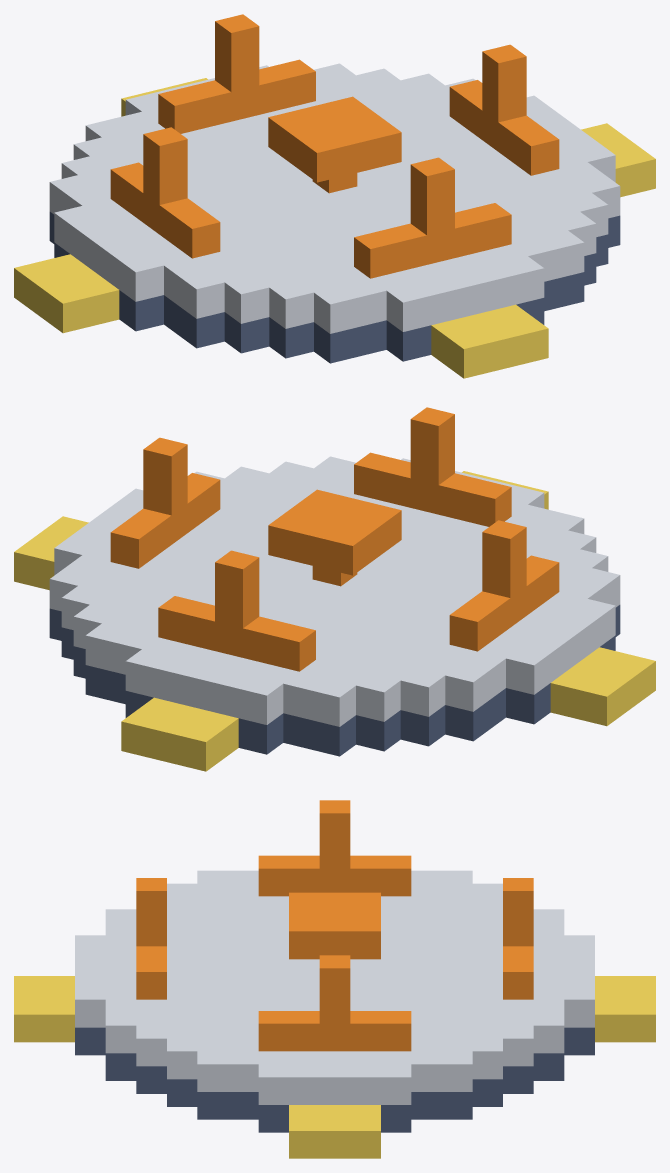
The model's file is pelicano_coupler.glb.
3 renders of one model, top to bottom at view 1: azimuth 30°, elevation 25°; view 2: azimuth 150°, elevation 25°; view 3: azimuth 270°, elevation 25°, orthographic. The views are drawn at different scales.
Parts seen in each view (by area): view 1: ObjObject.023; view 2: ObjObject.023; view 3: ObjObject.023.
Part boxes in pixels (<box>): ObjObject.023: <box>14,14,655,378</box>; ObjObject.023: <box>14,407,655,771</box>; ObjObject.023: <box>14,800,655,1158</box>.
Size of the model in its own units: 2.1 by 0.6 by 2.1.
Materials: 1 (1 with a texture image).
